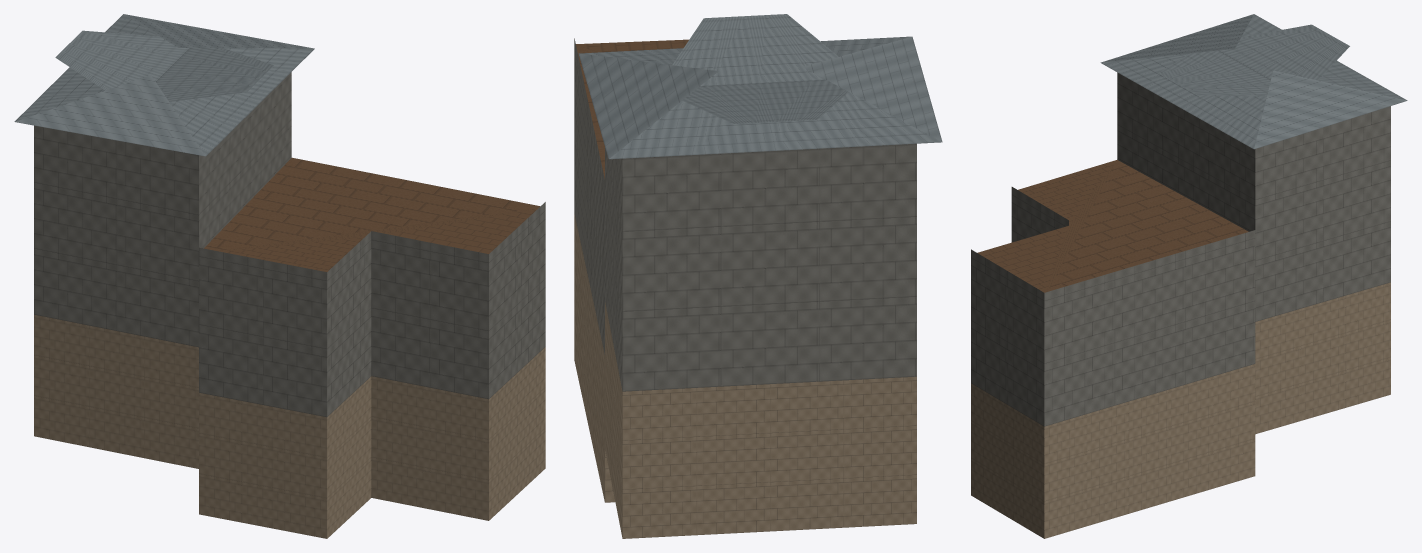
File: bld_c18_28_382.gltf
The picture shows the model from 3 angles, left to right: view 1: azimuth 30°, elevation 25°; view 2: azimuth 150°, elevation 25°; view 3: azimuth 270°, elevation 25°; orthographic projection. The views are drawn at different scales.
Visible parts, largest first — view 1: bld_c18_28_382; view 2: bld_c18_28_382; view 3: bld_c18_28_382.
Boxes of the visible parts, x1,y1,x2,y2 form: bld_c18_28_382: (14, 14, 545, 538); bld_c18_28_382: (574, 14, 942, 538); bld_c18_28_382: (971, 14, 1407, 538).
Size of the model in its own units: 18.32 by 16.3 by 17.98.
5 materials, 5 textured.
